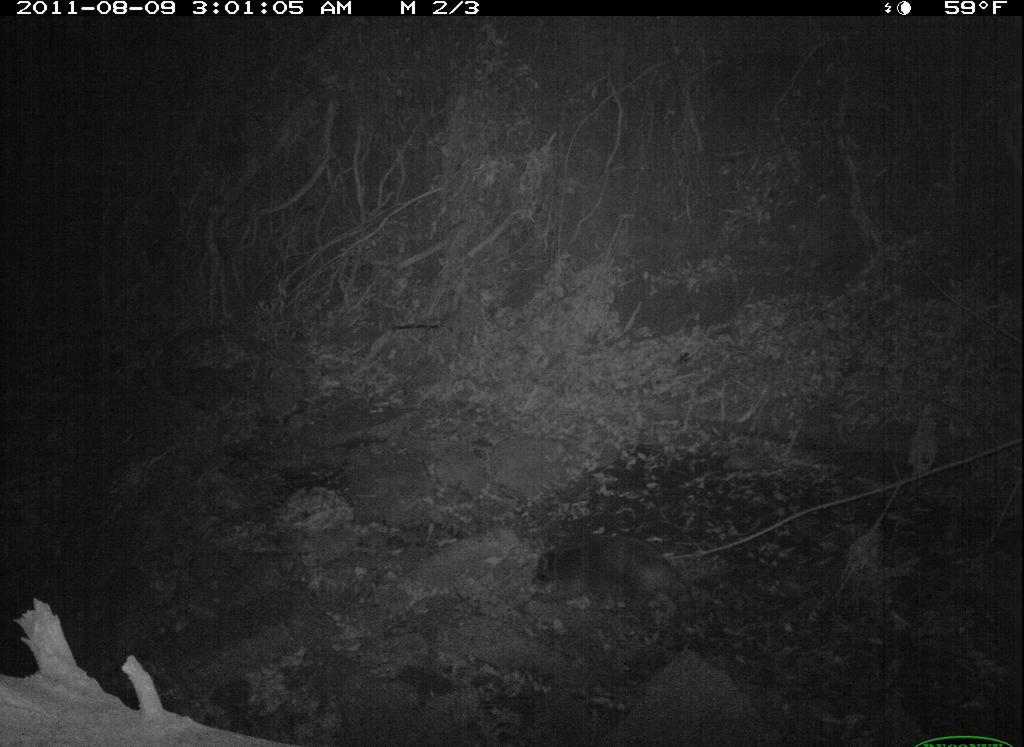raccoon: (524, 532, 713, 647)
